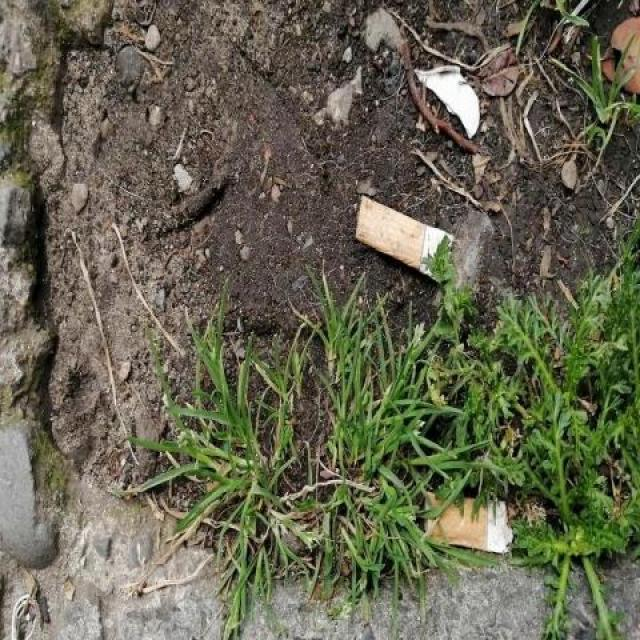non-organic waste: (352, 188, 457, 288), (419, 486, 517, 566)
